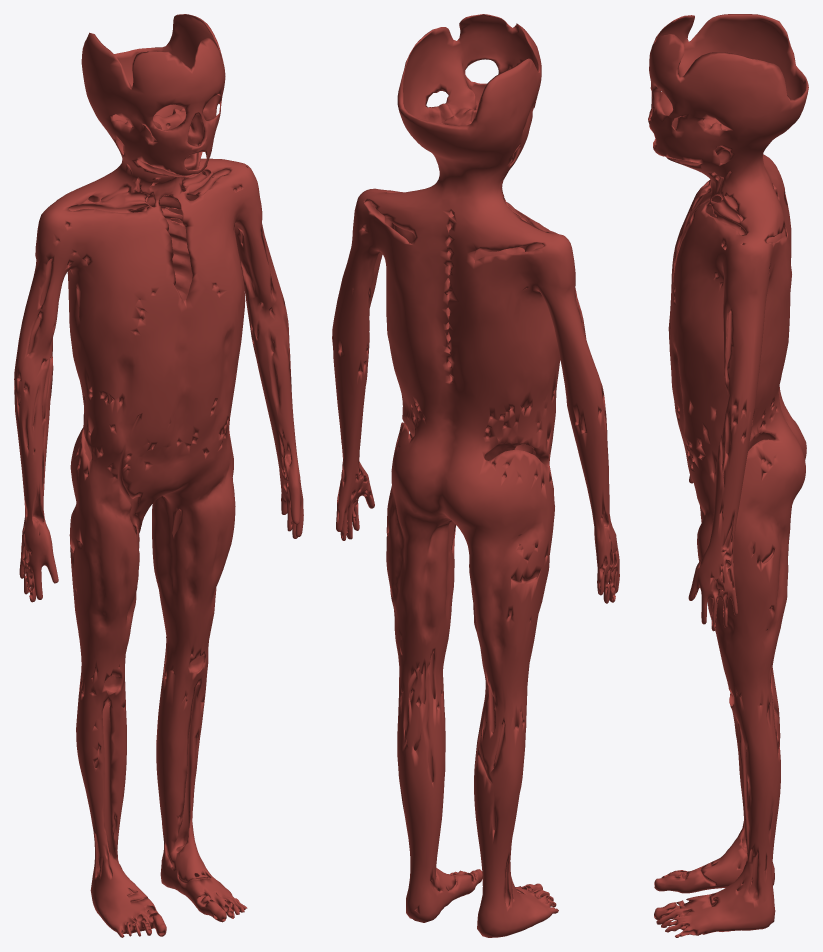
Rendered from pediatric_child_5y_female.muscular.LOD0.glb.
The picture shows the model from 3 angles, left to right: view 1: azimuth 30°, elevation 25°; view 2: azimuth 150°, elevation 25°; view 3: azimuth 270°, elevation 25°; orthographic projection.
Visible parts, largest first — view 1: PEDIATRIC.CHILD_5Y.FEMALE.MUSCULAR.MUSCLE; view 2: PEDIATRIC.CHILD_5Y.FEMALE.MUSCULAR.MUSCLE; view 3: PEDIATRIC.CHILD_5Y.FEMALE.MUSCULAR.MUSCLE.
Part boxes in pixels (x1,y1,x2,y2): PEDIATRIC.CHILD_5Y.FEMALE.MUSCULAR.MUSCLE: [14, 14, 303, 937]; PEDIATRIC.CHILD_5Y.FEMALE.MUSCULAR.MUSCLE: [332, 14, 619, 937]; PEDIATRIC.CHILD_5Y.FEMALE.MUSCULAR.MUSCLE: [648, 14, 808, 937].
Bounding box in the file's own units: 0.3468 × 1.07 × 0.1763.
